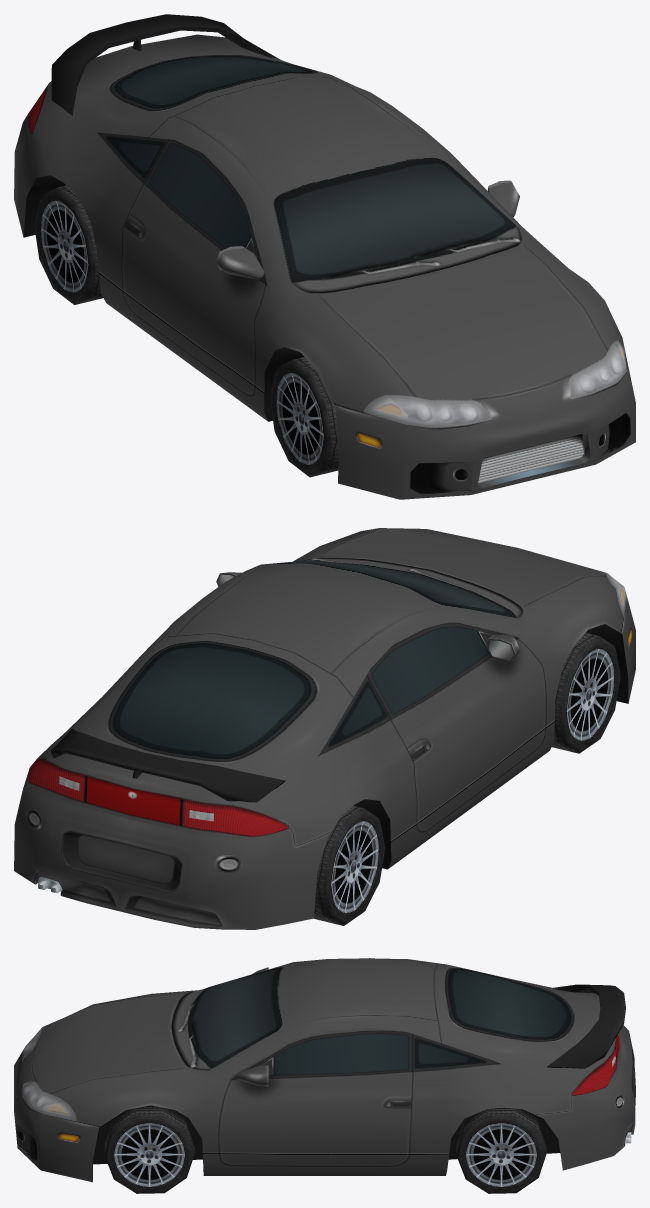
Rendered from ModernStreetVehicle.fbx.
The picture shows the model from 3 angles, top to bottom: view 1: azimuth 30°, elevation 25°; view 2: azimuth 150°, elevation 25°; view 3: azimuth 270°, elevation 25°; orthographic projection. The views are drawn at different scales.
Parts seen in each view (by area): view 1: Chassis, RF_Wheel, RR_Wheel; view 2: Chassis, RR_Wheel, RF_Wheel; view 3: Chassis, LF_Wheel, LR_Wheel.
Boxes of the visible parts, x1,y1,x2,y2 form: Chassis: (14,14,635,499); RF_Wheel: (269,357,338,477); RR_Wheel: (34,185,103,304); Chassis: (14,528,635,929); RR_Wheel: (314,805,385,925); RF_Wheel: (552,632,620,753); Chassis: (14,958,635,1182); LF_Wheel: (104,1105,194,1193); LR_Wheel: (456,1107,546,1193).
Size of the model in its own units: 2.08 by 1.44 by 5.02.
2 materials, 2 textured.
